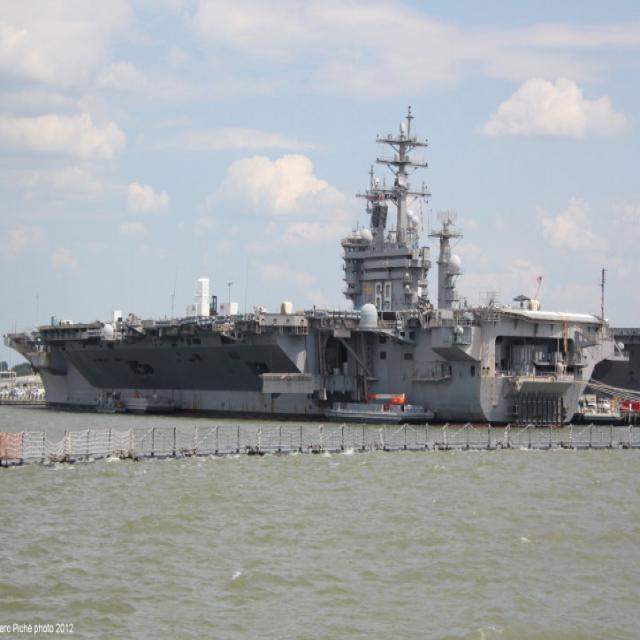Portanaves: (2, 97, 633, 431)
